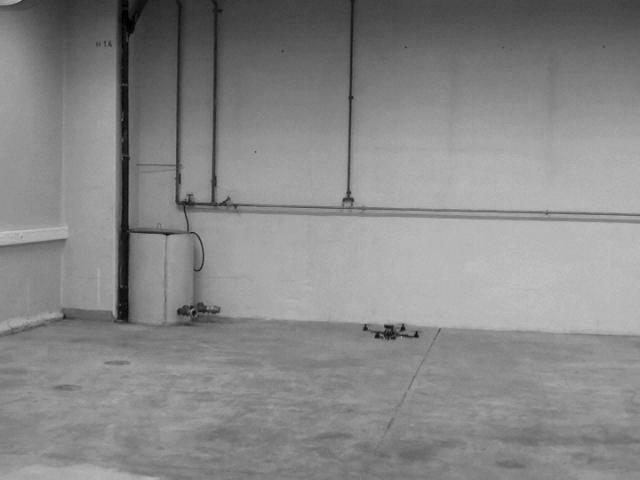drone: (357, 318, 426, 351)
